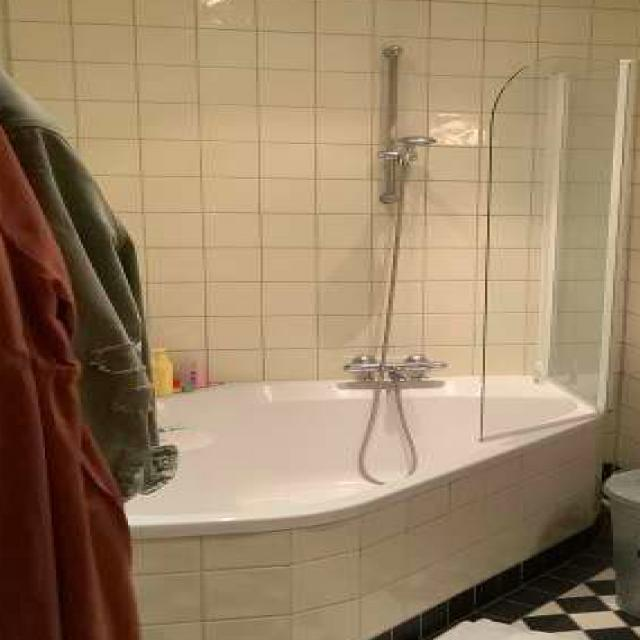bath: (119, 34, 633, 640)
